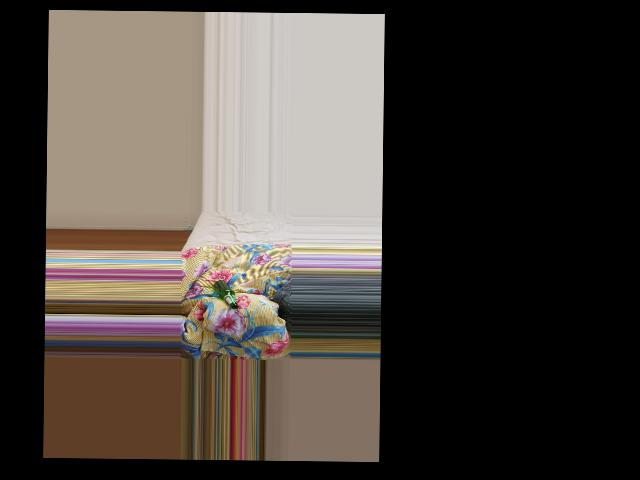beer: (213, 280, 238, 310)
